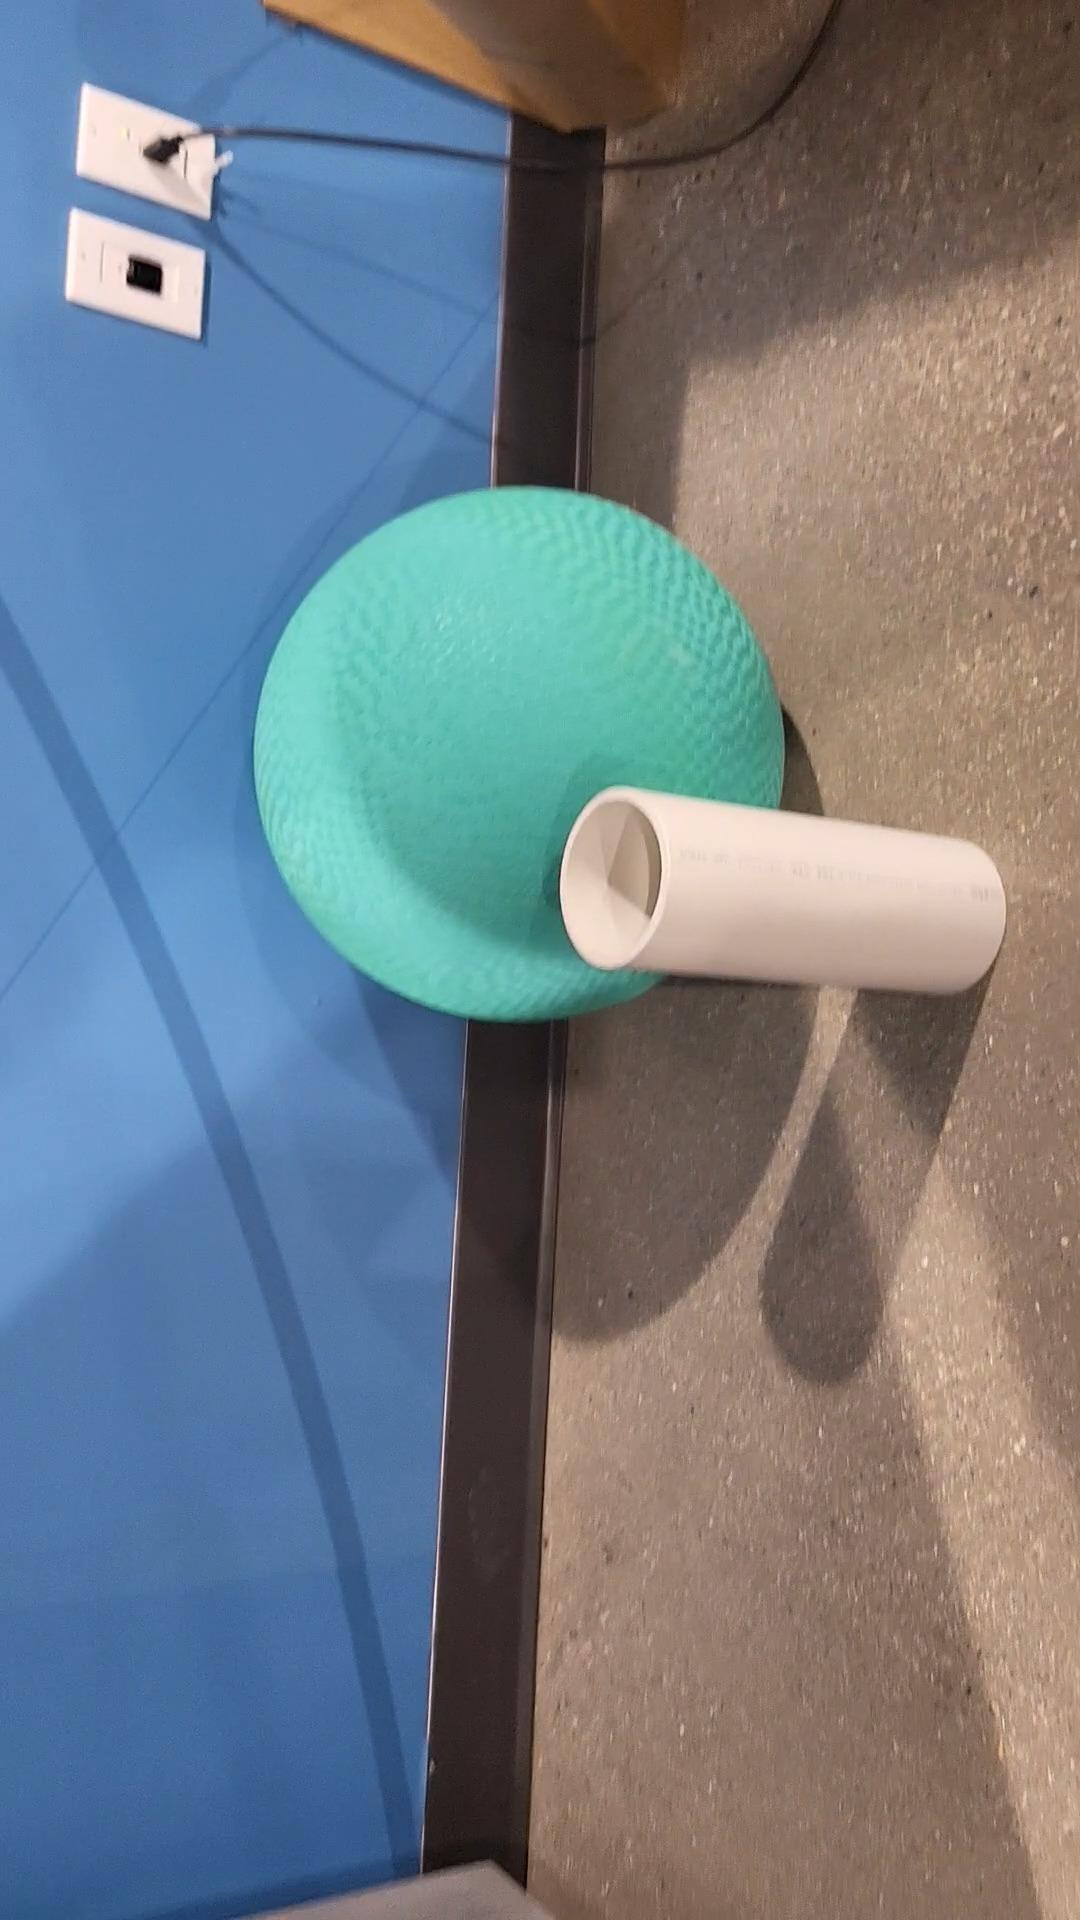algae: (252, 485, 787, 1015)
coral: (563, 790, 1007, 997)
